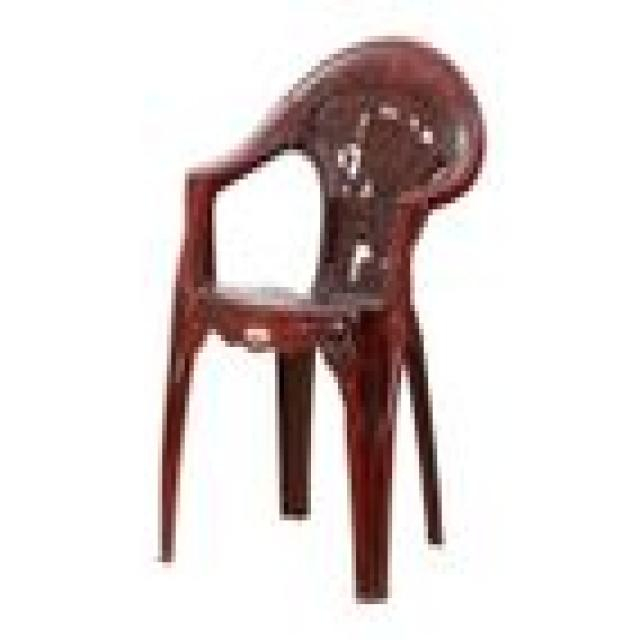others: (149, 24, 482, 598)
